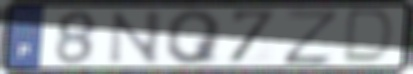7: (227, 8, 279, 66)
8: (53, 9, 100, 66)
D: (339, 7, 398, 66)
N: (105, 9, 163, 66)
Q: (165, 8, 226, 66)
Z: (281, 7, 342, 67)
